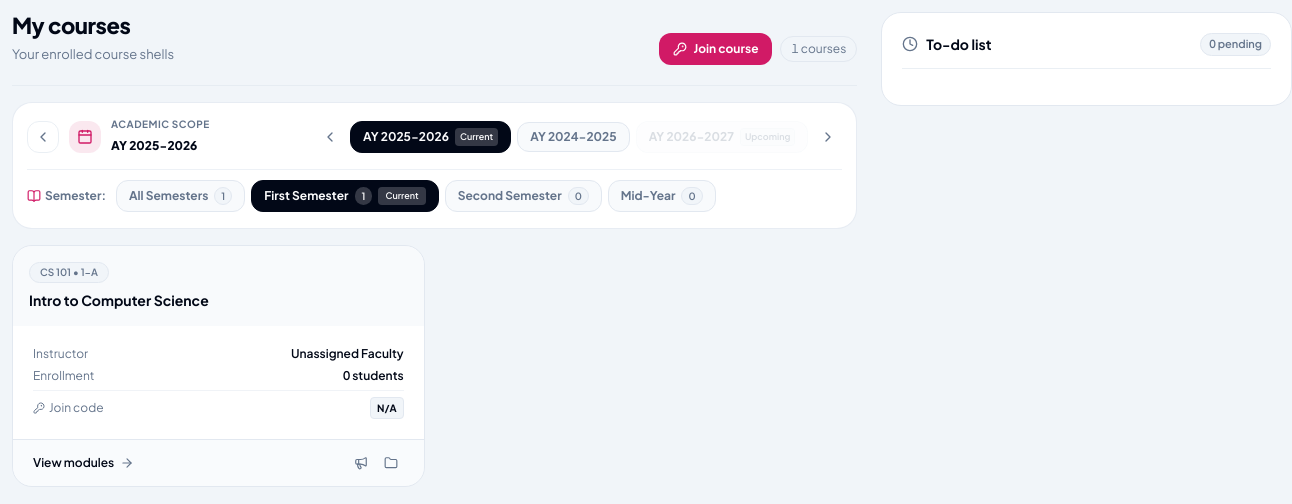
Test: DashboardPage Academic Scope Horizontal Scrollable Wheel › clicking past year in horizontal wheel filters courses on Dashboard
Step 1. Click the button "AY 2024-2025" → (573, 137), box [517,122,630,152]
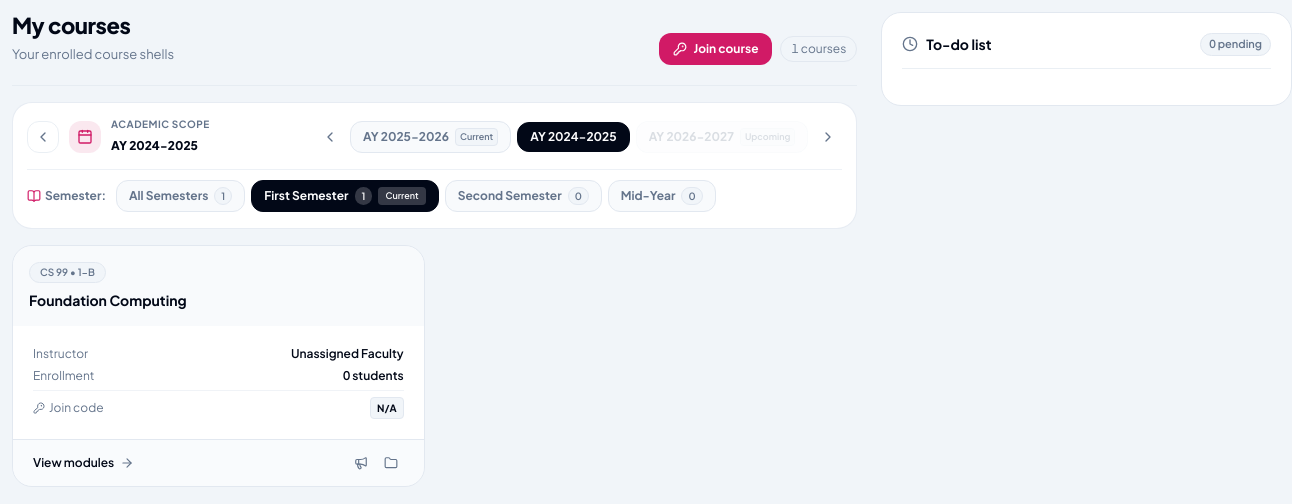
Expected: the heading "Foundation Computing" is shown, [29,291,187,309]
Expected: the heading "Intro to Computer Science" is gone
